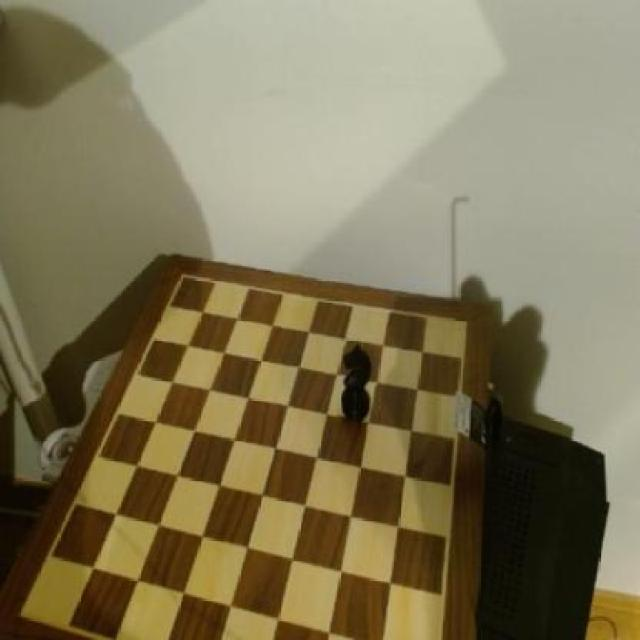black-king: (337, 342, 378, 431)
